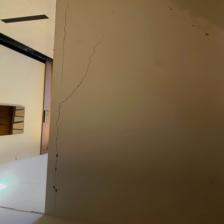Medium: (50, 40, 107, 192)
